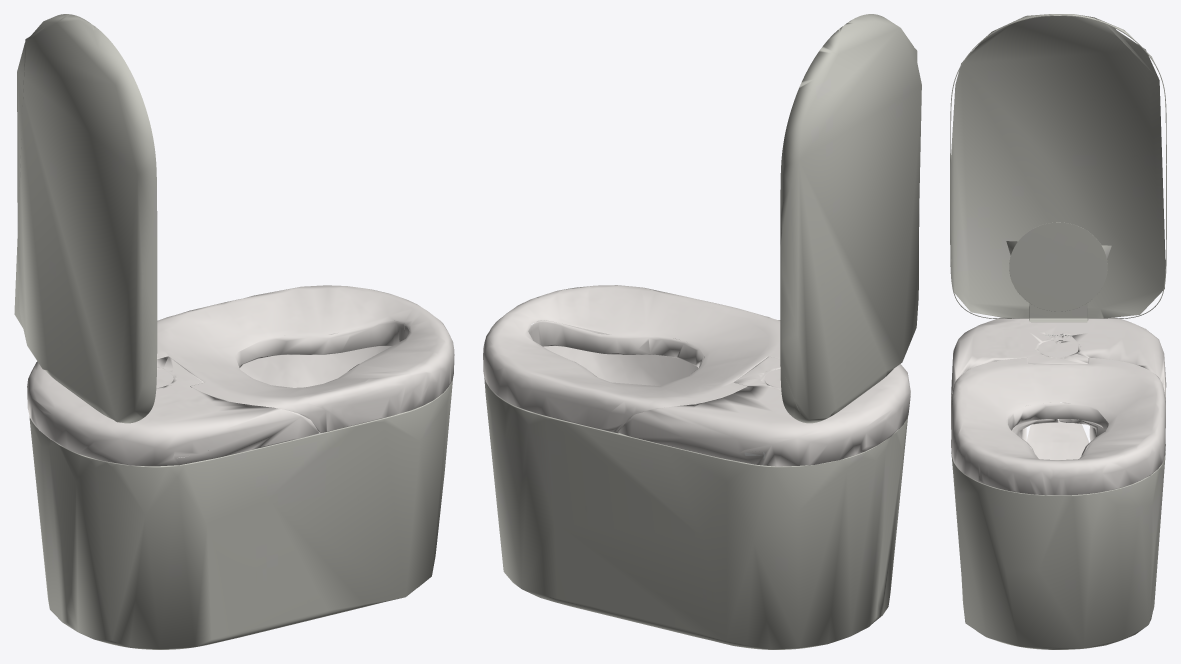
Rendered from toilet_a01.glb.
The picture shows the model from 3 angles, left to right: view 1: azimuth 30°, elevation 25°; view 2: azimuth 150°, elevation 25°; view 3: azimuth 270°, elevation 25°; orthographic projection. The views are drawn at different scales.
Parts seen in each view (by area): view 1: sm_toilet_a01_01; view 2: sm_toilet_a01_01; view 3: sm_toilet_a01_01.
Boxes of the visible parts, <box> form: sm_toilet_a01_01: <box>14,14,454,649</box>; sm_toilet_a01_01: <box>483,14,921,649</box>; sm_toilet_a01_01: <box>950,14,1166,649</box>.
Size of the model in its own units: 0.7055 by 1.04 by 0.4051.
Materials: 6 (5 with a texture image).
